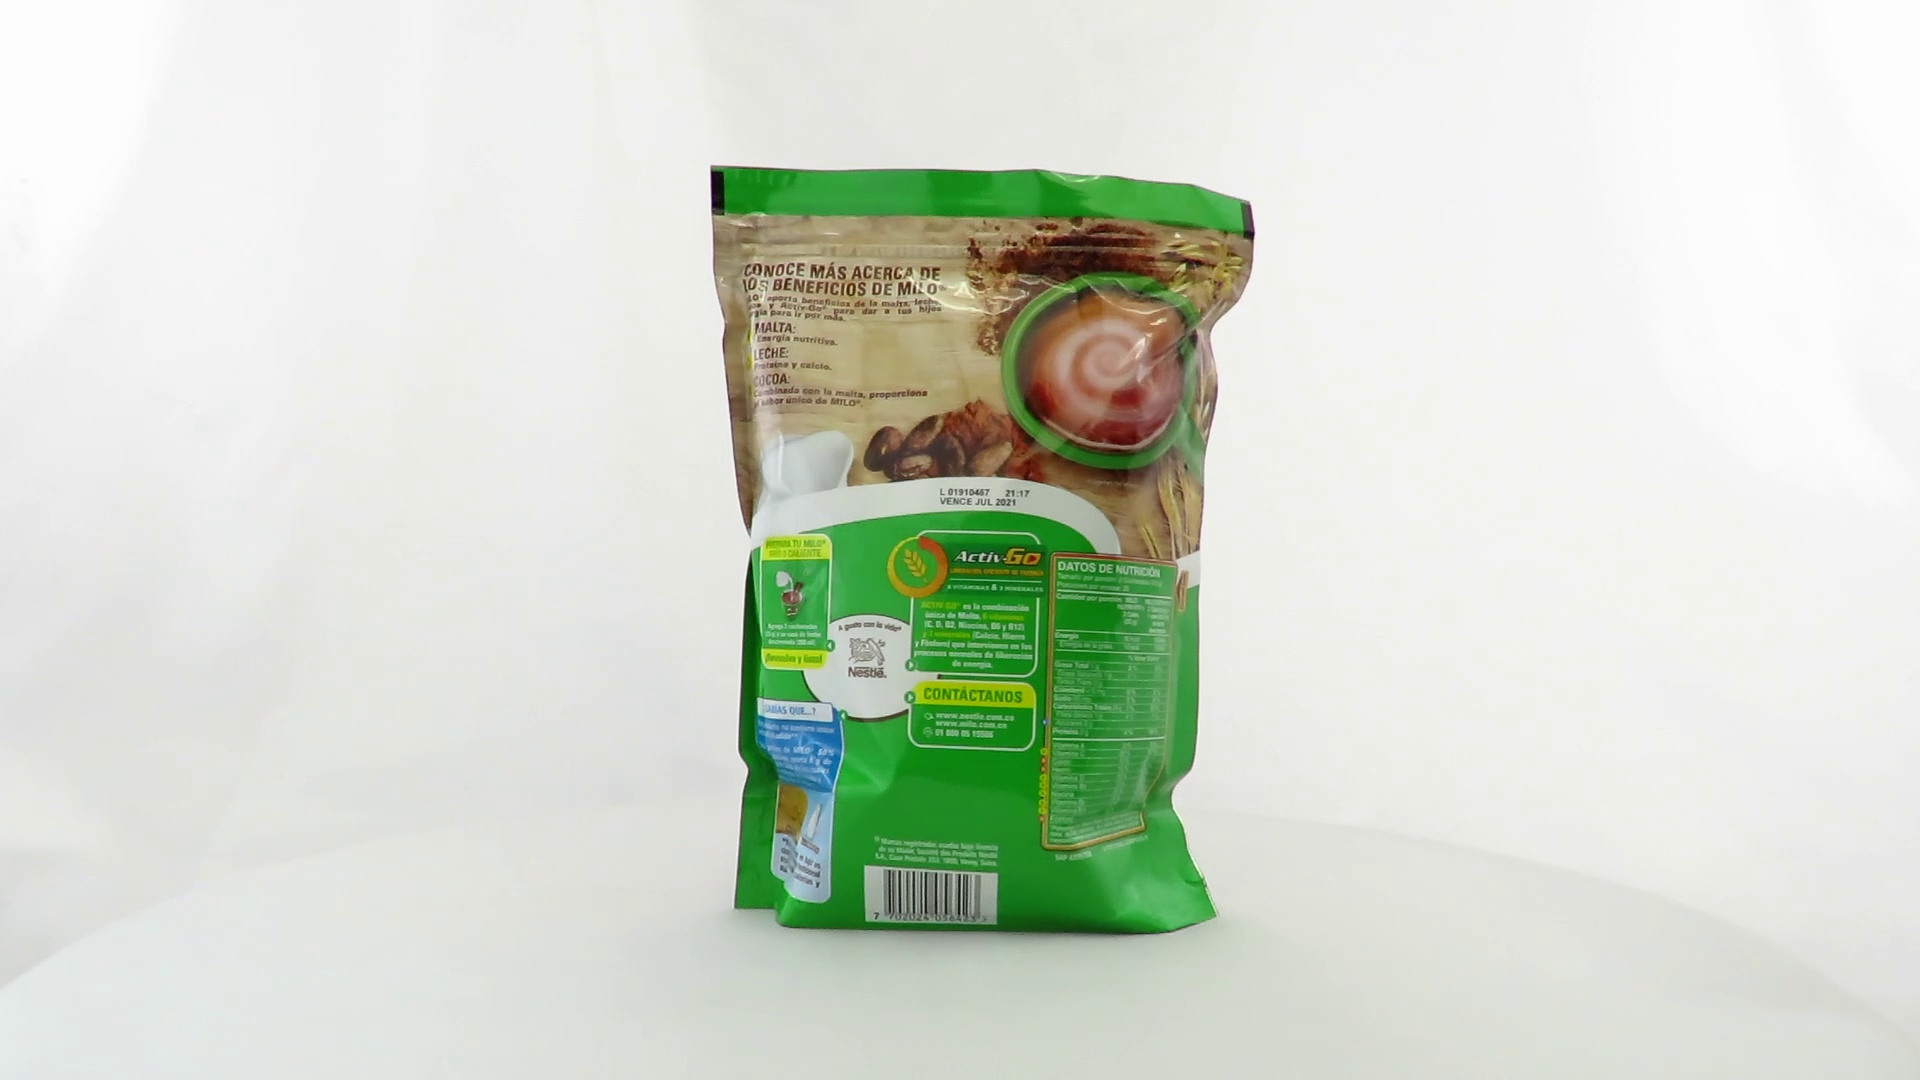COL0170205DYP50000: (705, 160, 1261, 942)
